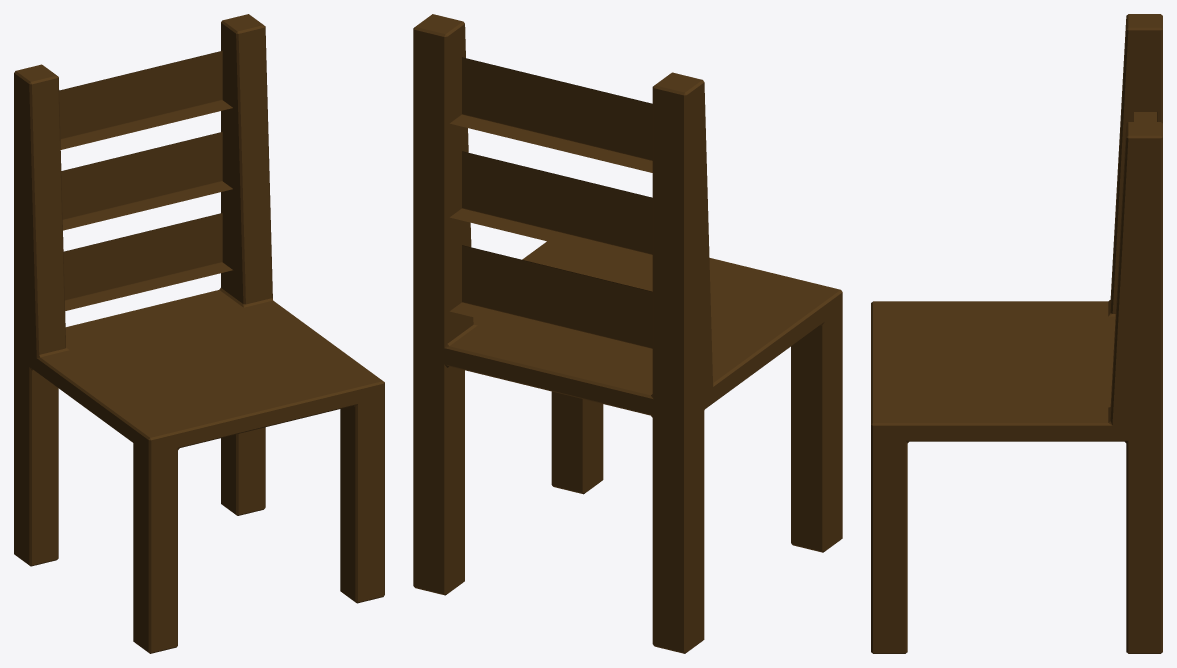
Rendered from Chair Low Poly.fbx.
3 views of the same model, side by side, from view 1: azimuth 30°, elevation 25°; view 2: azimuth 150°, elevation 25°; view 3: azimuth 270°, elevation 25° (orthographic). The views are drawn at different scales.
Parts seen in each view (by area): view 1: Cube, Plane; view 2: Cube, Plane; view 3: Cube.
Part boxes in pixels (left/top/right/bottom): Cube: left=14, top=14, right=384, bottom=653; Plane: left=59, top=50, right=232, bottom=310; Cube: left=413, top=14, right=842, bottom=653; Plane: left=450, top=57, right=652, bottom=360; Cube: left=871, top=14, right=1162, bottom=653.
Bounding box in the file's own units: 200 × 392 × 200.
